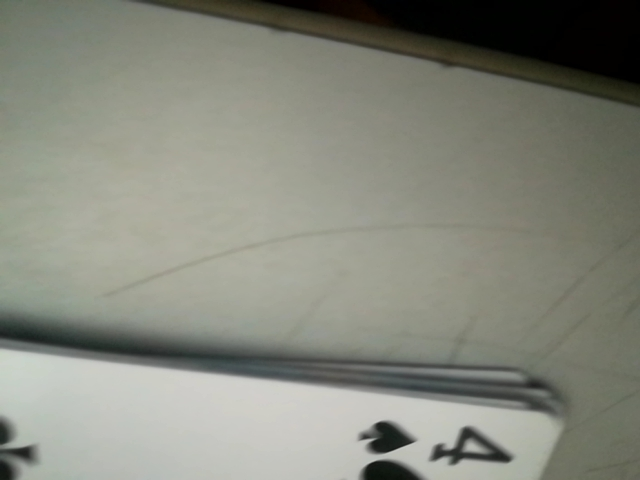ht 4: (352, 410, 529, 475)
